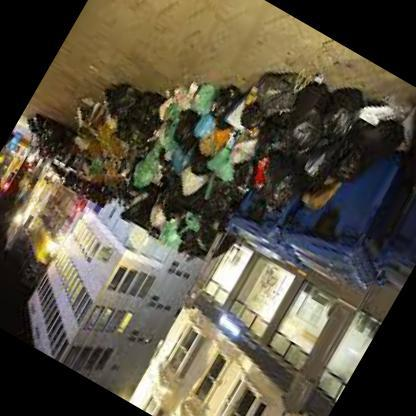Garbage: (95, 32, 287, 242), (247, 86, 345, 204), (258, 77, 338, 171), (26, 117, 96, 185), (315, 84, 368, 151), (290, 134, 341, 198), (162, 150, 218, 207), (162, 103, 209, 160), (328, 140, 374, 192), (178, 70, 224, 120), (395, 102, 415, 197), (126, 151, 164, 195), (313, 202, 347, 244), (157, 218, 190, 256), (194, 108, 224, 141), (249, 198, 268, 220)
